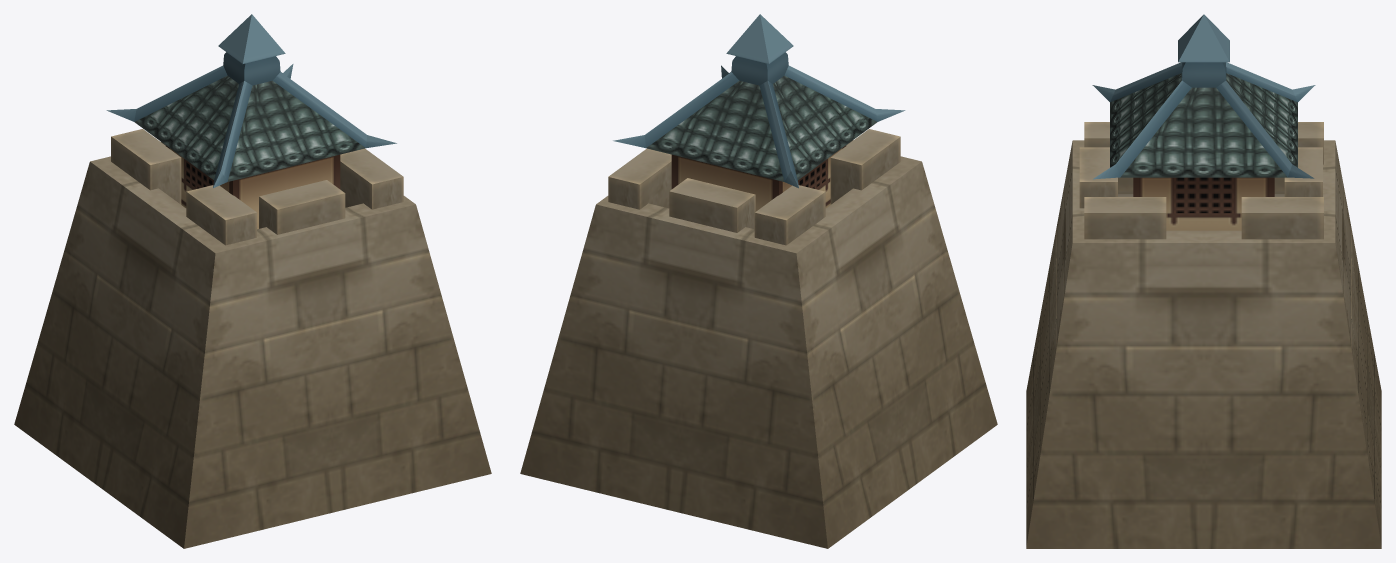
File: QSMY_City_ChengMen02.FBX
The picture shows the model from 3 angles, left to right: view 1: azimuth 30°, elevation 25°; view 2: azimuth 150°, elevation 25°; view 3: azimuth 270°, elevation 25°; orthographic projection. The views are drawn at different scales.
Parts seen in each view (by area): view 1: Object135; view 2: Object135; view 3: Object135.
Part boxes in pixels (left/top/right/bottom): Object135: left=14, top=14, right=491, bottom=548; Object135: left=520, top=14, right=997, bottom=548; Object135: left=1026, top=14, right=1381, bottom=548.
Size of the model in its own units: 18.1 by 24.47 by 17.3.
